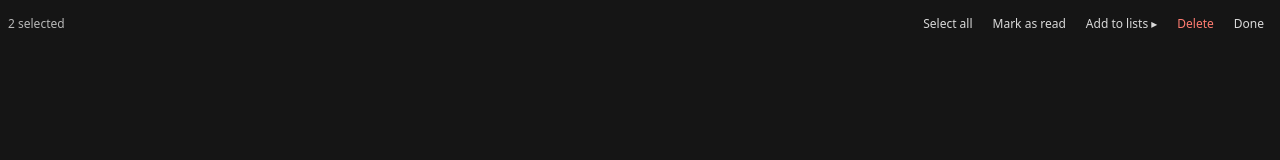
Test: FanListBulkBar › a failed delete is counted on the status line, stays picked, and keeps its thread cached
This screenshot has width=1280, height=160.
Click the button "Delete": (1196, 24) [1169,6,1222,42]
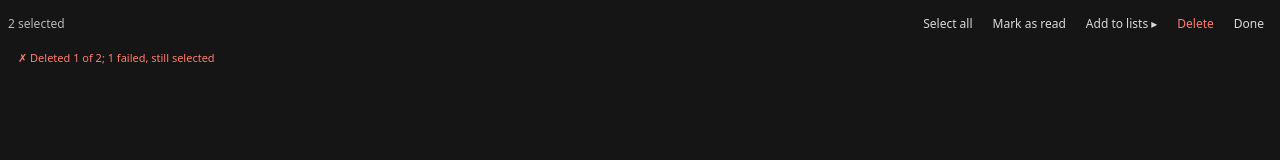
Now the text "✗ Deleted 1 of 2; 1 failed, still selected" is shown, box [18,50,215,65]
